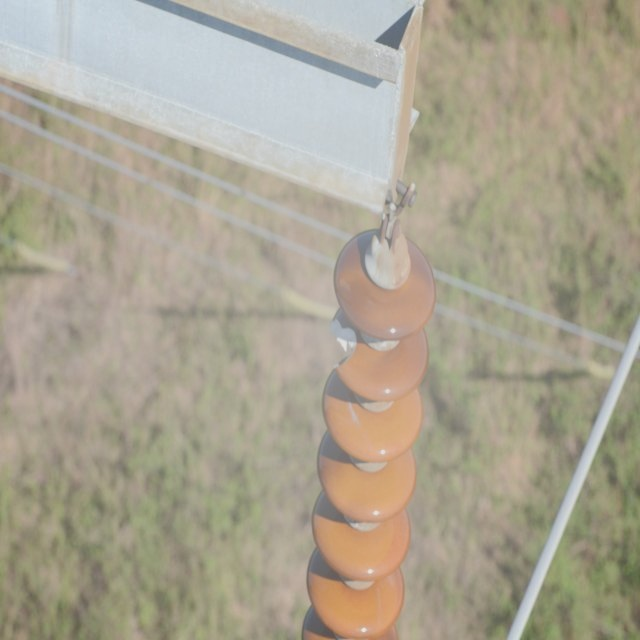broken: (326, 313, 361, 376)
insulator: (302, 231, 434, 640)
